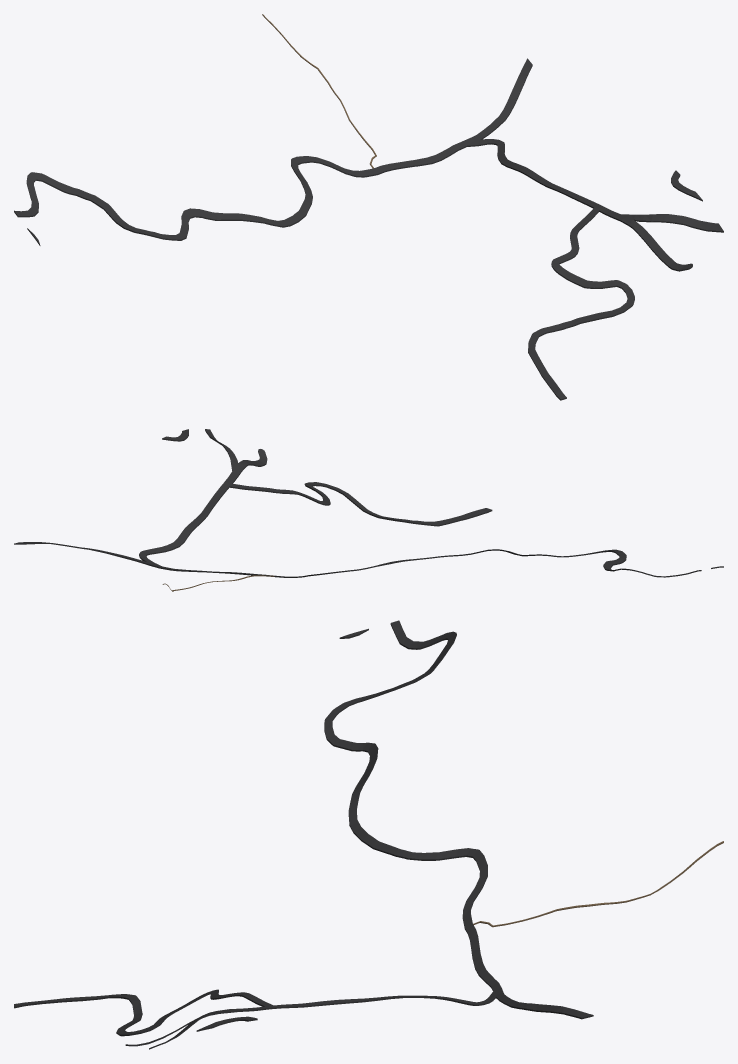
3 renders of one model, top to bottom at view 1: azimuth 30°, elevation 25°; view 2: azimuth 150°, elevation 25°; view 3: azimuth 270°, elevation 25°, orthographic. The views are drawn at different scales.
Bounding box in the file's own units: 586 × 156 × 532.
